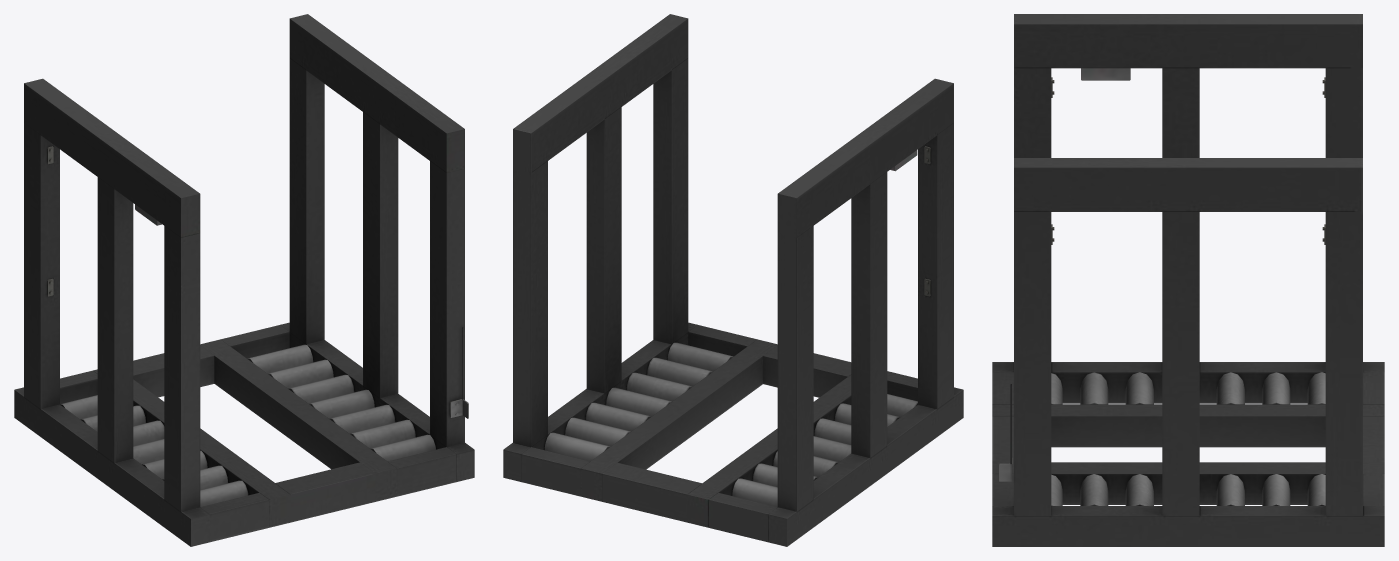
Rendered from SND_tsj_1602.glb.
The picture shows the model from 3 angles, left to right: view 1: azimuth 30°, elevation 25°; view 2: azimuth 150°, elevation 25°; view 3: azimuth 270°, elevation 25°; orthographic projection. The views are drawn at different scales.
Bounding box in the file's own units: 10.34 × 11.93 × 11.14.
Materials: 1 (1 with a texture image).
